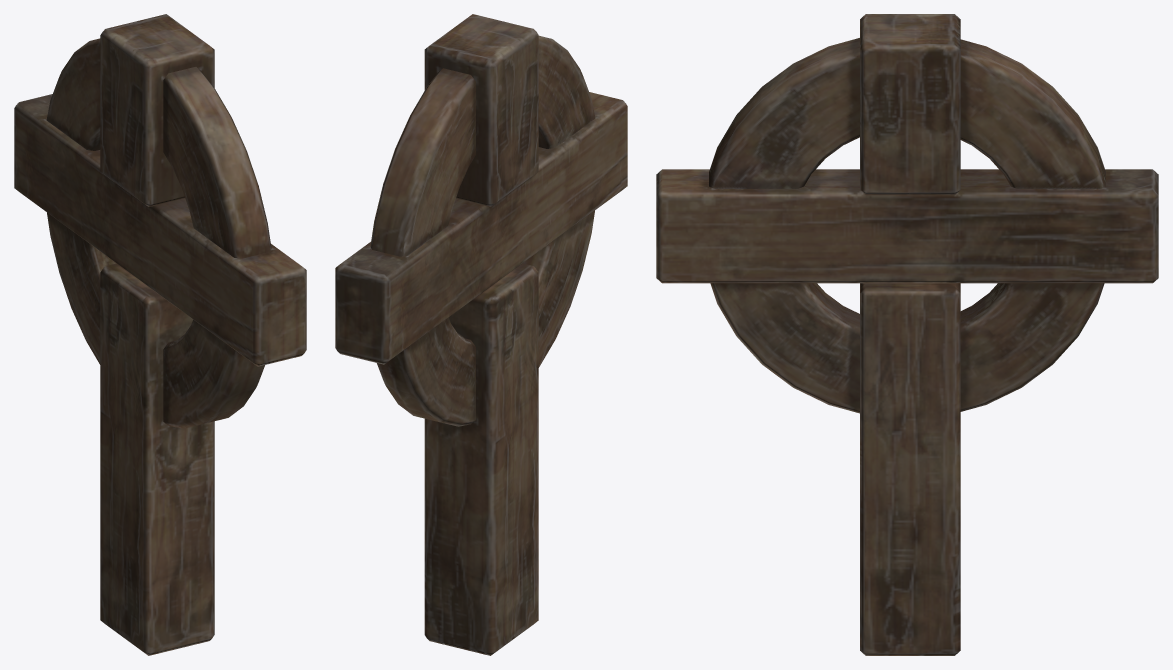
The model's file is SM_TombsA2_001.fbx.
3 renders of one model, left to right at view 1: azimuth 30°, elevation 25°; view 2: azimuth 150°, elevation 25°; view 3: azimuth 270°, elevation 25°, orthographic. The views are drawn at different scales.
Parts seen in each view (by area): view 1: SM_TombsA2_001_LOD0; view 2: SM_TombsA2_001_LOD0; view 3: SM_TombsA2_001_LOD0.
Boxes of the visible parts, x1=… form: SM_TombsA2_001_LOD0: x1=14, y1=14, x2=306, y2=655; SM_TombsA2_001_LOD0: x1=335, y1=14, x2=627, y2=655; SM_TombsA2_001_LOD0: x1=656, y1=14, x2=1158, y2=655.
Size of the model in its own units: 6.79 by 40.54 by 54.46.
Materials: 1 (1 with a texture image).
